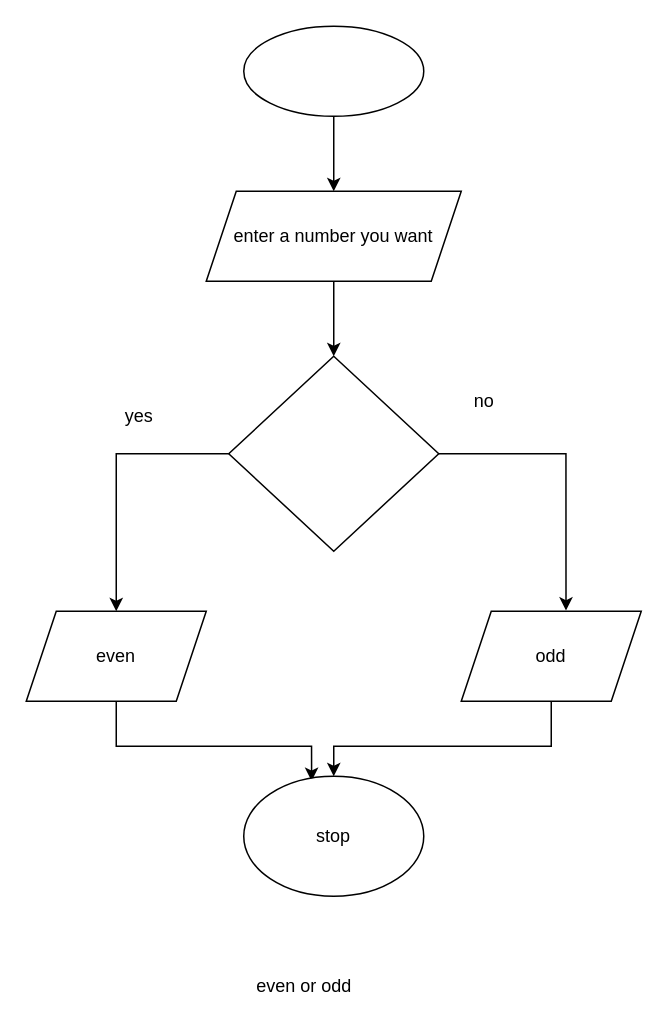
Some shapes in this 668 by 1028 pixel diagram are drawn without their labels. The shapes that lost their labels are listed below. From the top down, each one's centre as x and y in pixels, then its label:
the point at 333,70: start
the point at 333,453: if number % 2 == 0
